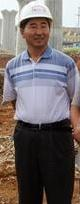hard-hat: (18, 0, 53, 26)
